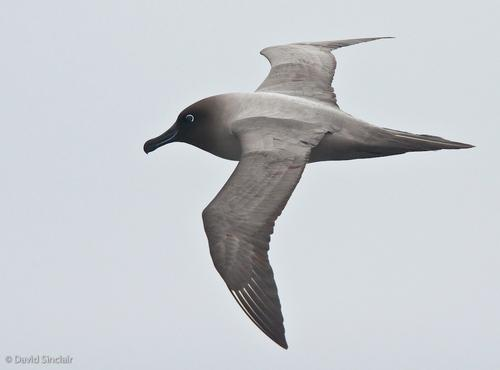003.Sooty_Albatross: (142, 36, 475, 351)
